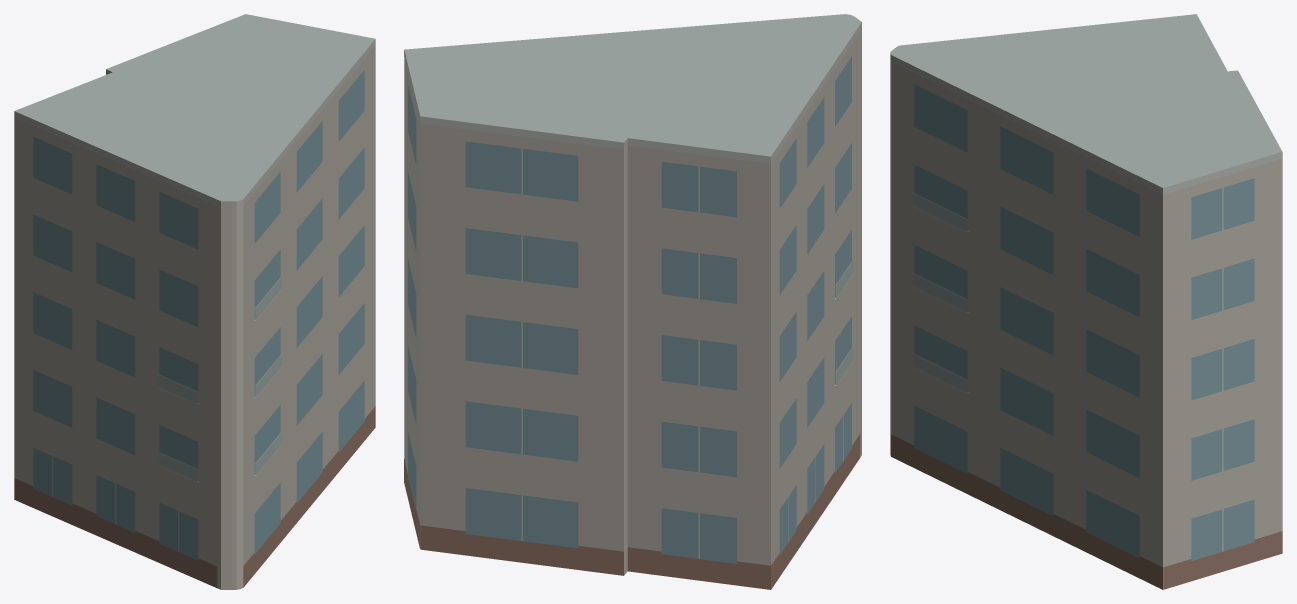
Rendered from survey-upis-32788204.glb.
The picture shows the model from 3 angles, left to right: view 1: azimuth 30°, elevation 25°; view 2: azimuth 150°, elevation 25°; view 3: azimuth 270°, elevation 25°; orthographic projection. The views are drawn at different scales.
Parts seen in each view (by area): view 1: survey-upis-32788204.tmp; view 2: survey-upis-32788204.tmp; view 3: survey-upis-32788204.tmp.
Part boxes in pixels (left/top/right/bottom): survey-upis-32788204.tmp: left=14, top=14, right=375, bottom=589; survey-upis-32788204.tmp: left=404, top=14, right=861, bottom=589; survey-upis-32788204.tmp: left=890, top=14, right=1282, bottom=589.
Bounding box in the file's own units: 13.58 × 14.6 × 12.92.
